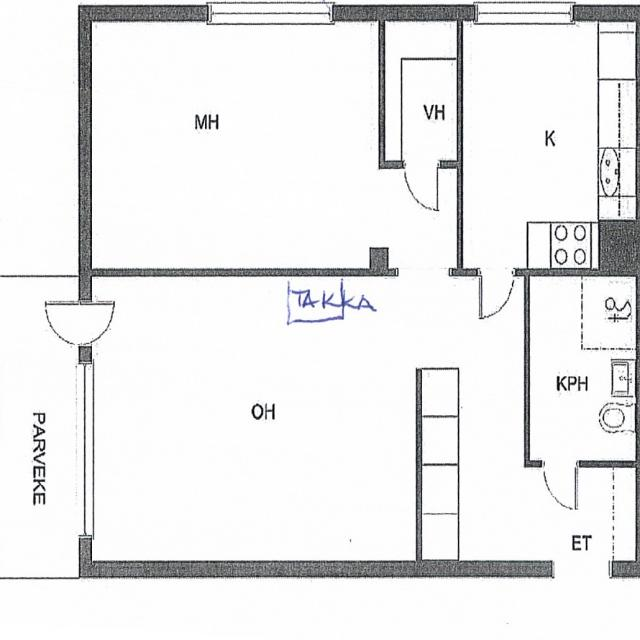door: (78, 301, 127, 346), (43, 301, 91, 346), (479, 268, 515, 320), (542, 460, 578, 511), (404, 160, 438, 210)
